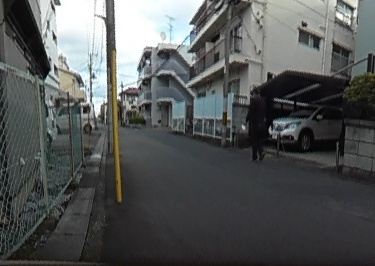person: (248, 86, 270, 161)
